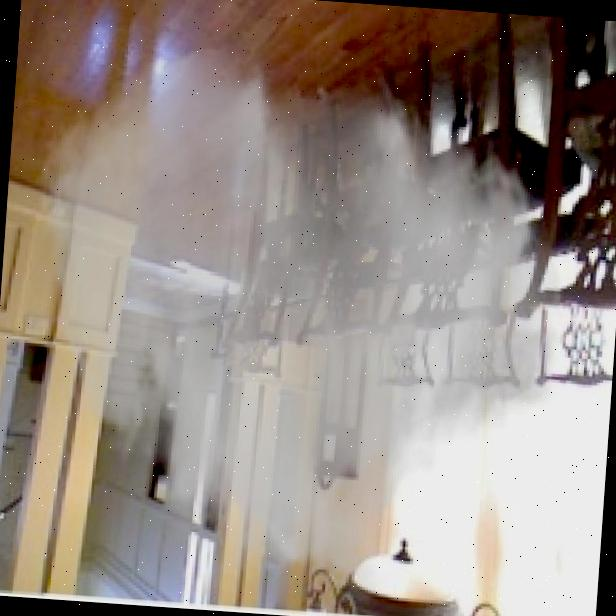smoke: (7, 31, 584, 616)
